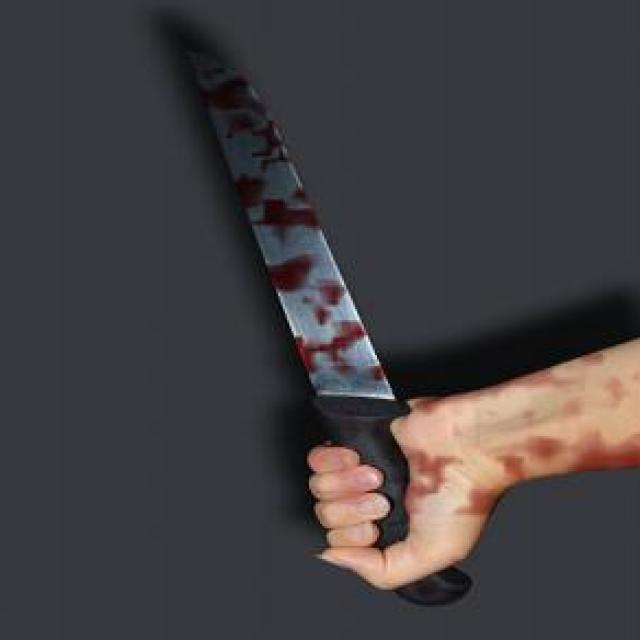knife: (162, 24, 480, 609)
